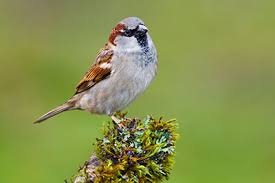hsparrow: (34, 13, 162, 137)
